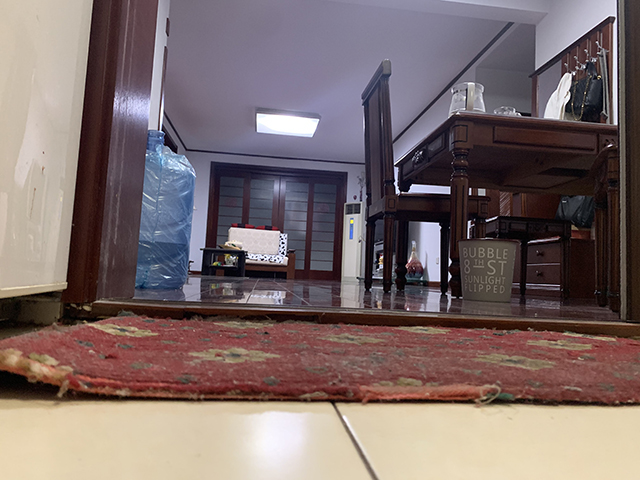carpet: (1, 309, 640, 409)
sofa: (216, 222, 297, 281)
stool: (360, 58, 492, 299), (469, 186, 574, 308)
table: (394, 111, 620, 312), (199, 247, 249, 279)
trashcan: (457, 237, 521, 303)
